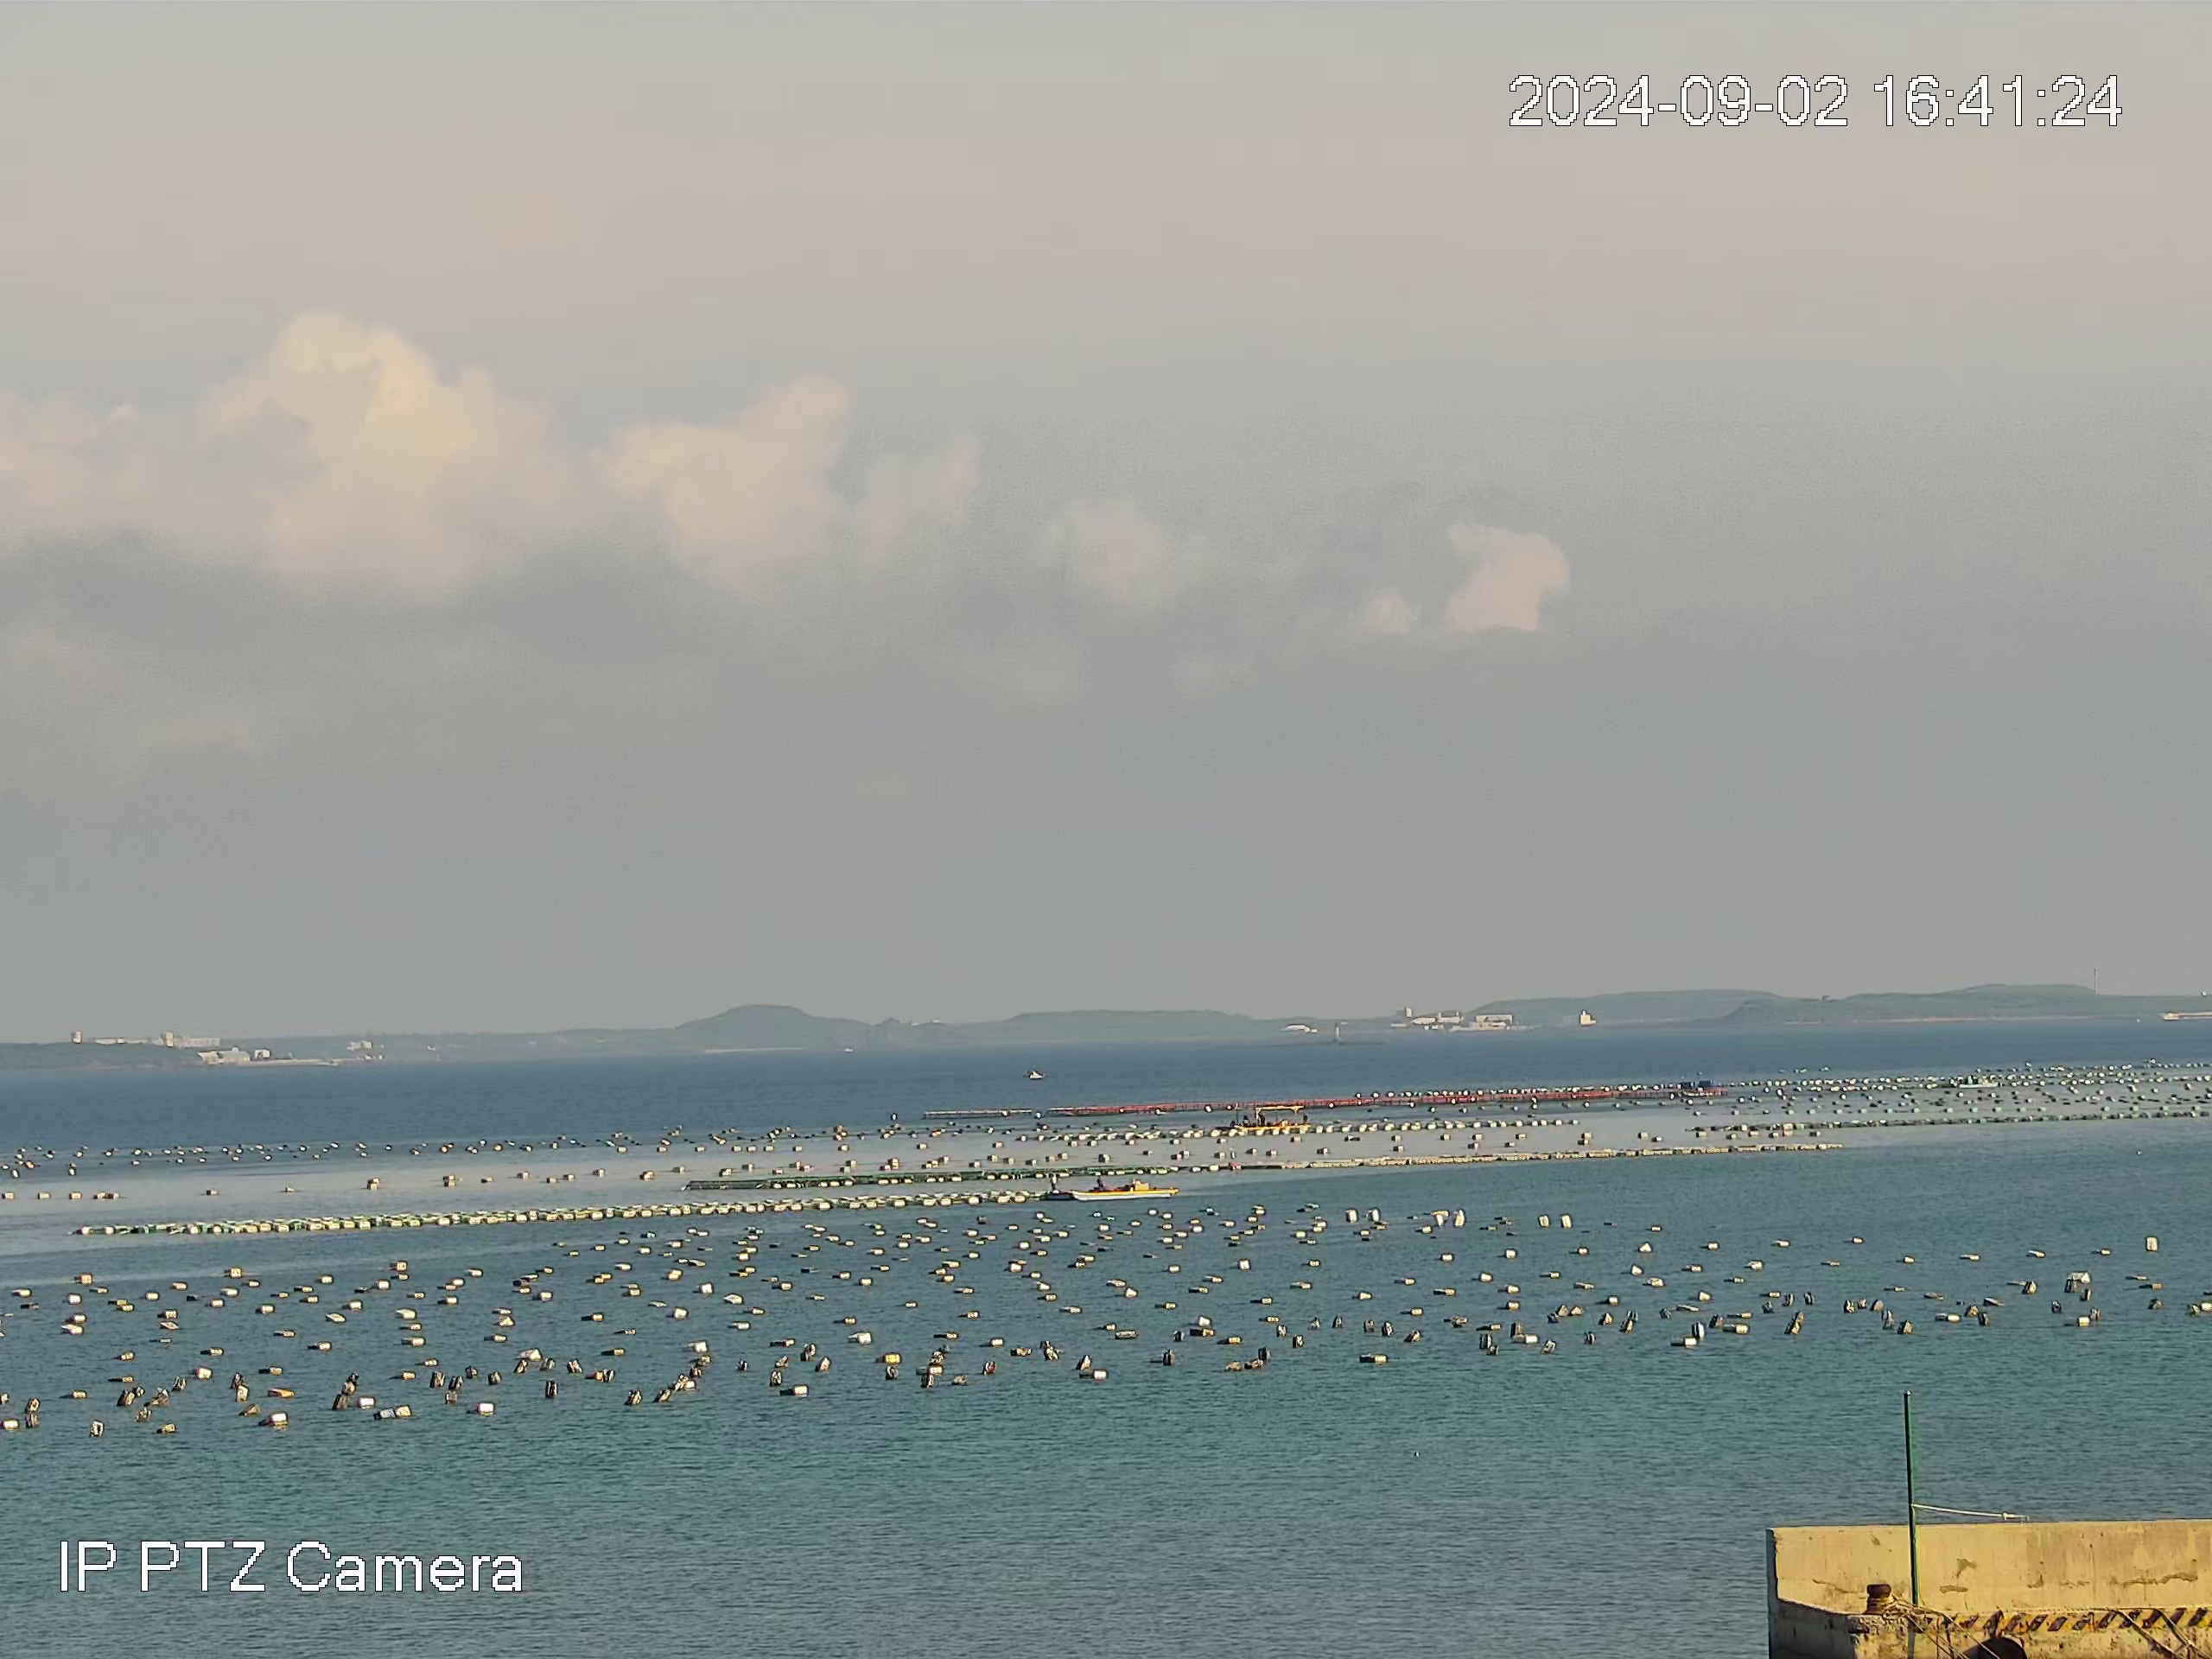boat: (1038, 1169, 1181, 1202), (1230, 1101, 1313, 1131), (1956, 1072, 2000, 1089)
